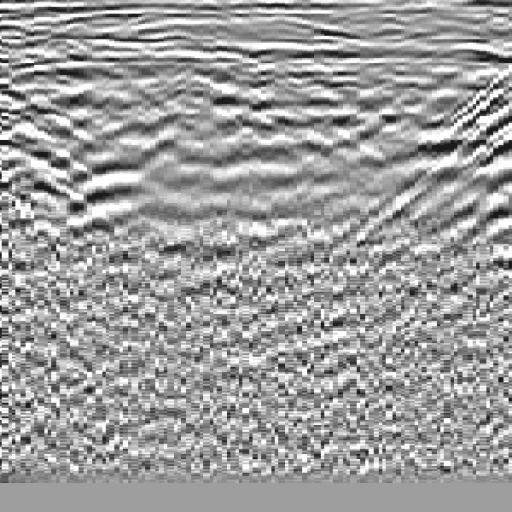metalic: (38, 54, 207, 275)
nonmetalic: (357, 46, 512, 255)
